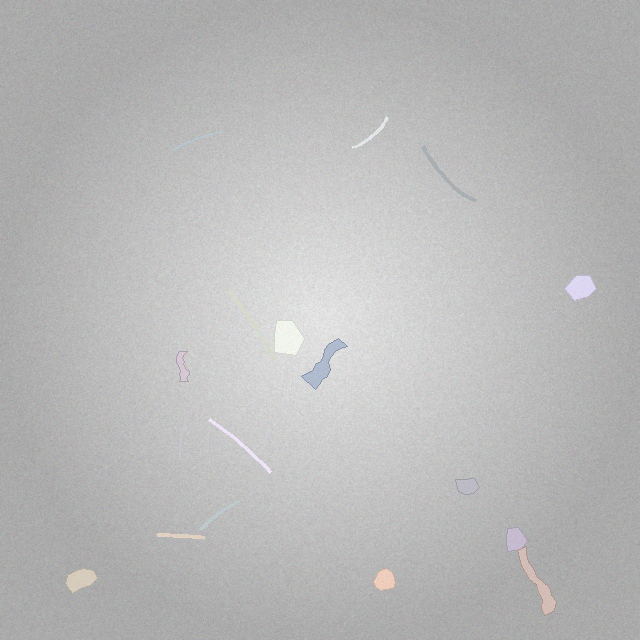fiber: (206, 416, 274, 476), (226, 288, 278, 363), (419, 142, 479, 205), (177, 389, 205, 461), (197, 498, 242, 533), (349, 114, 391, 151), (171, 130, 223, 153), (154, 531, 208, 541)
film: (518, 546, 556, 616), (302, 339, 347, 389), (176, 351, 189, 381)
fragment: (274, 320, 304, 355), (564, 276, 597, 300), (65, 569, 97, 593), (506, 527, 527, 551), (374, 569, 396, 590), (455, 478, 480, 494)
